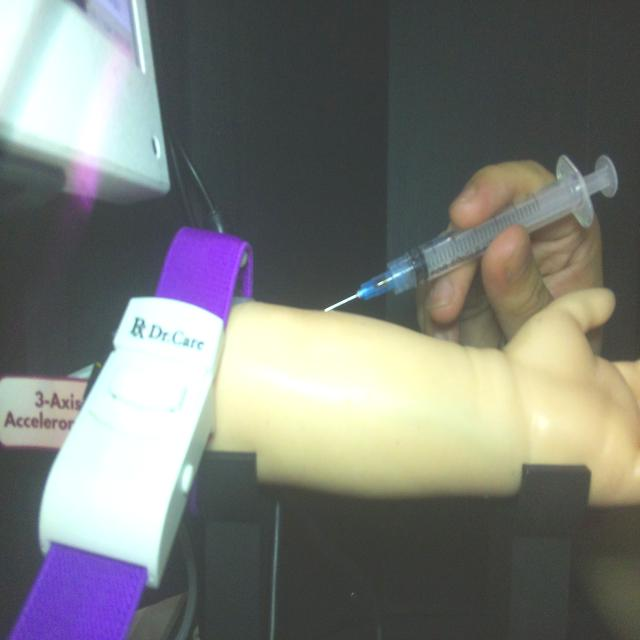18 degrees: (322, 150, 619, 314)
